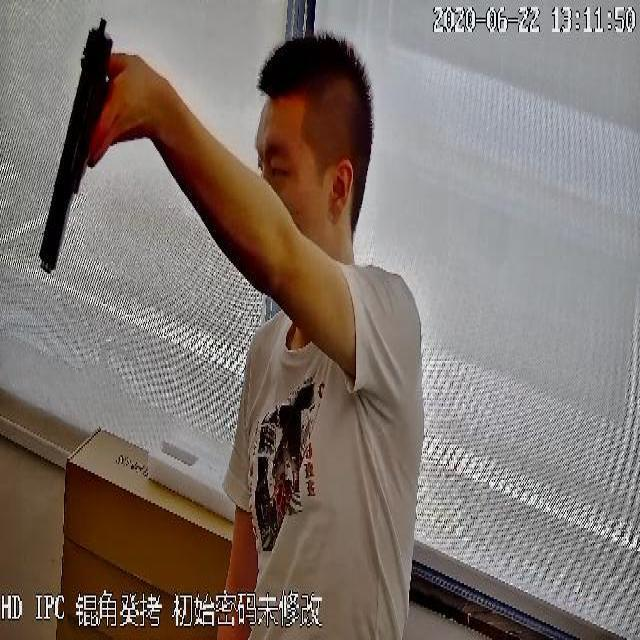pistol: (38, 18, 120, 280)
